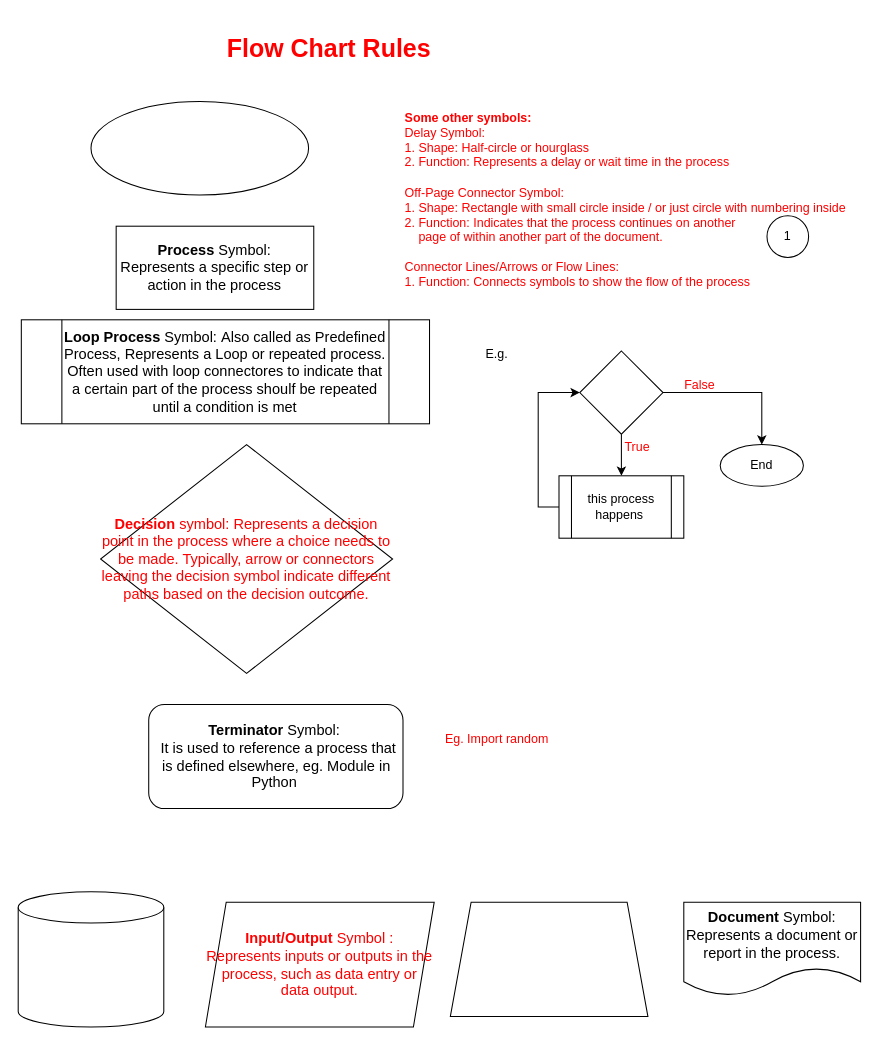
The diagram is 889 pixels wide and 1045 high, and some of its shapes have lost their labels. Here are the shapes that lost their labels. From the top down, the centre of each, then its label:
the point at 199,147: Start/End Symbol: Represents the start or end of a process
the point at 621,392: Condition (while)
the point at 90,959: Database Symbol: Represents a database or data storage in the process.
the point at 548,959: Manual Input symbol: Represents manual input or data entry by a human operator.
